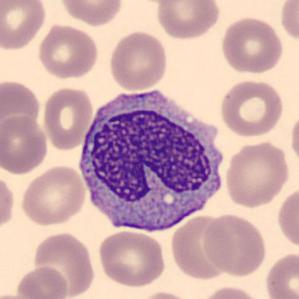Monocyte: (73, 81, 230, 238)
RBC: (222, 138, 292, 210), (168, 212, 234, 282), (30, 230, 97, 298), (18, 163, 88, 228), (202, 212, 268, 278), (96, 228, 167, 288), (218, 15, 285, 75), (218, 78, 285, 138), (107, 29, 170, 92), (36, 22, 100, 80), (40, 85, 94, 150), (0, 114, 50, 175), (154, 0, 222, 41), (0, 77, 43, 139), (0, 0, 48, 52), (14, 264, 70, 299), (57, 0, 125, 27), (262, 250, 298, 299), (275, 183, 298, 254), (195, 284, 268, 299), (0, 170, 16, 236), (278, 0, 299, 44), (288, 108, 299, 168), (133, 289, 197, 299), (0, 292, 43, 299)
